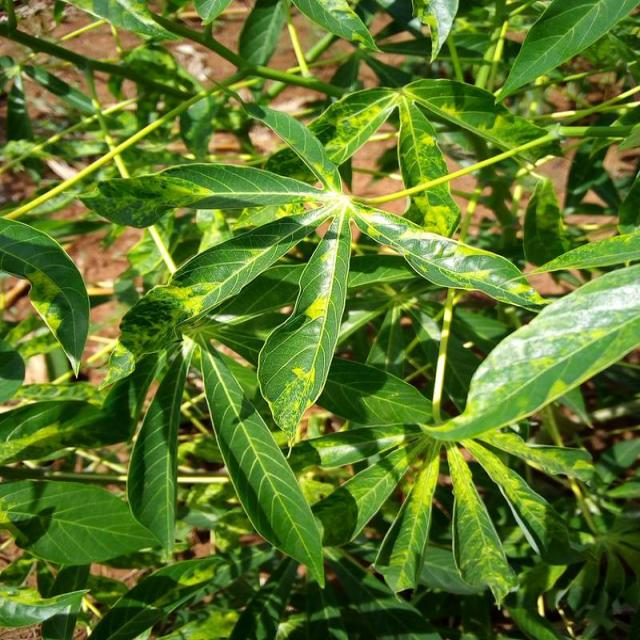cassava leaf: (0, 1, 638, 624), (418, 261, 638, 442), (197, 333, 326, 589), (256, 203, 352, 448), (0, 214, 90, 379)
